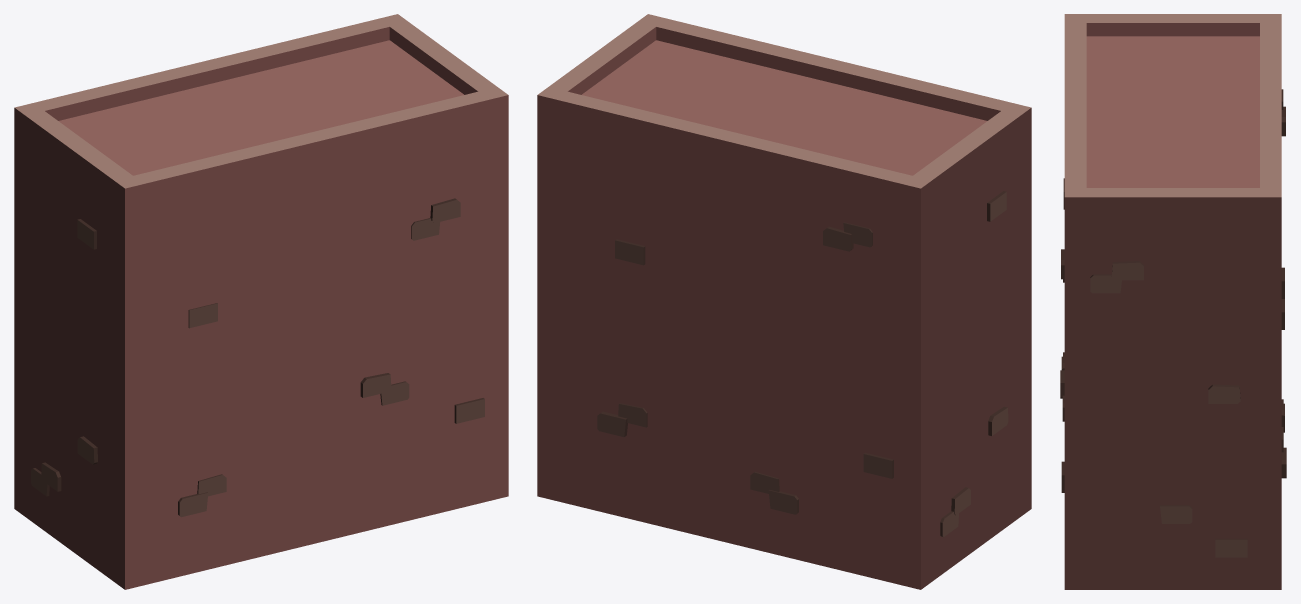
The model's file is TB_D_Bd_Body_Tall_Wide_Red.FBX.
3 views of the same model, side by side, from view 1: azimuth 30°, elevation 25°; view 2: azimuth 150°, elevation 25°; view 3: azimuth 270°, elevation 25° (orthographic). The views are drawn at different scales.
Visible parts, largest first — view 1: TB_D_Bd_Body_Tall_Wide_Red; view 2: TB_D_Bd_Body_Tall_Wide_Red; view 3: TB_D_Bd_Body_Tall_Wide_Red.
Boxes of the visible parts, box(x1,y1,x2,y2) form: TB_D_Bd_Body_Tall_Wide_Red: box(14, 14, 508, 589); TB_D_Bd_Body_Tall_Wide_Red: box(537, 14, 1031, 589); TB_D_Bd_Body_Tall_Wide_Red: box(1060, 14, 1286, 589).
Size of the model in its own units: 6.12 by 6 by 3.13.
